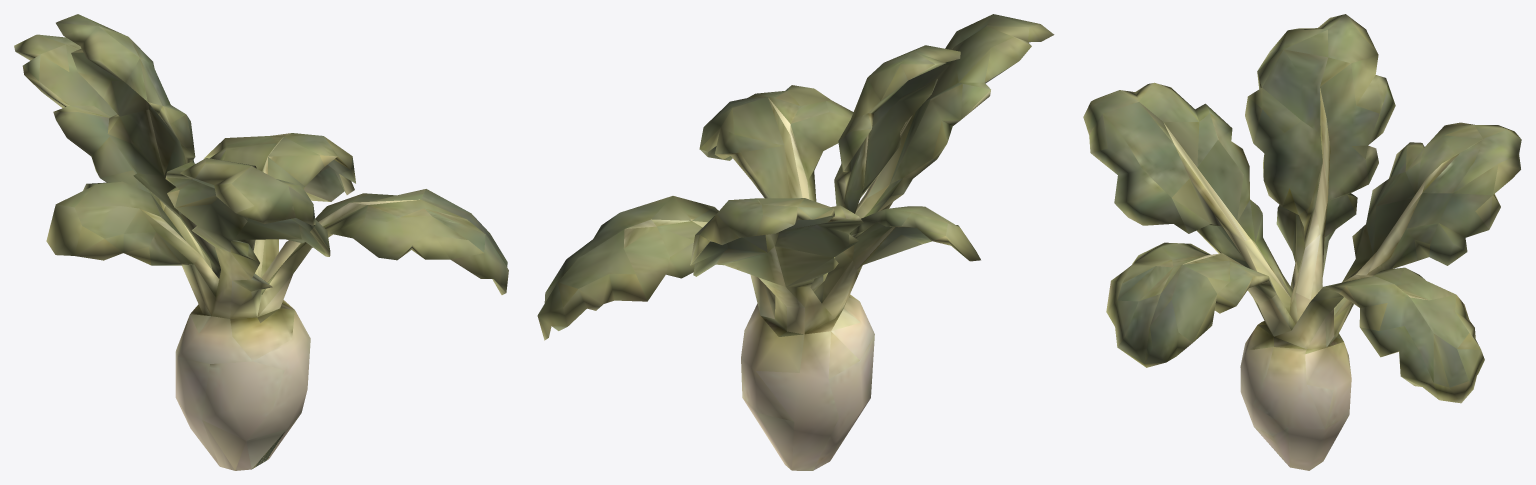
The model's file is lingcao_chiyan_mature.obj.
3 renders of one model, left to right at view 1: azimuth 30°, elevation 25°; view 2: azimuth 150°, elevation 25°; view 3: azimuth 270°, elevation 25°, orthographic. The views are drawn at different scales.
Visible parts, largest first — view 1: lingcao_chiyan_mature; view 2: lingcao_chiyan_mature; view 3: lingcao_chiyan_mature.
Boxes of the visible parts, x1,y1,x2,y2 form: lingcao_chiyan_mature: (14,14,508,470); lingcao_chiyan_mature: (537,14,1054,470); lingcao_chiyan_mature: (1083,14,1521,470).
Size of the model in its own units: 0.3351 by 0.4067 by 0.4184.
Materials: 1 (1 with a texture image).
